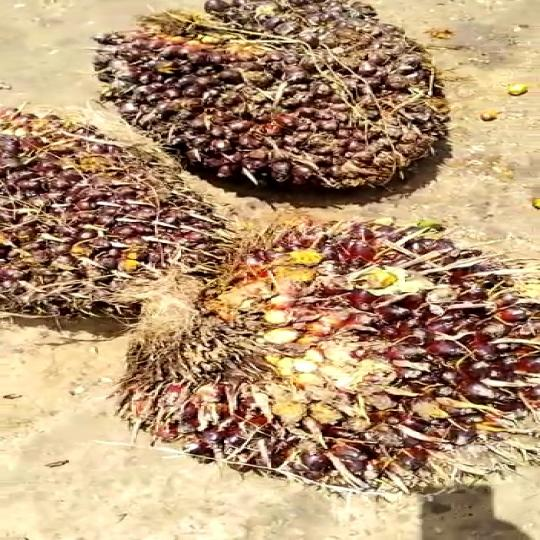kurang masak: (115, 206, 540, 492), (81, 2, 485, 220), (0, 98, 209, 328)
